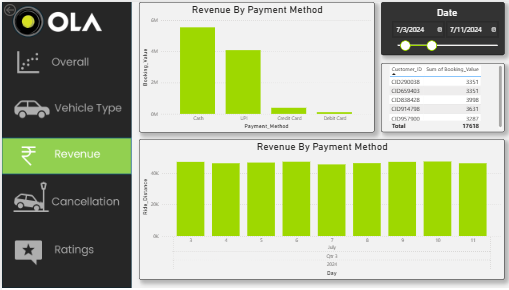

The dashboard page shown, as its layout file describes it:
{"tool":"powerbi","page":{"name":"Revenue","canvas":[1280,720],"ordinal":2},"visuals":[{"type":"actionButton","box":[0,98.6,314.3,108.6],"z":0},{"type":"actionButton","box":[0,207.1,325.7,134.3],"z":1000},{"type":"actionButton","box":[0,431.4,325.7,125.7],"z":2000},{"type":"actionButton","box":[0,572.9,325.7,147.1],"z":3000},{"type":"columnChart","title":"Revenue By Payment Method","fields":{"Y":["Sum(July.Booking_Value)"],"Category":["July.Payment_Method"]},"box":[342.4,0,589.4,325.8],"z":4000},{"type":"columnChart","title":"Revenue By Payment Method","fields":{"Y":["Sum(July.Ride_Distance)"],"Category":["July.Date.Variation.Date Hierarchy.Year","July.Date.Variation.Date Hierarchy.Quarter","July.Date.Variation.Date Hierarchy.Month","July.Date.Variation.Date Hierarchy.Day"]},"box":[342.4,342.4,913.6,351.5],"z":5000},{"type":"slicer","title":"Date","fields":{"Values":["July.Date"]},"box":[947,0,309.1,133.3],"z":6000},{"type":"tableEx","fields":{"Values":["July.Customer_ID","Sum(July.Booking_Value)"]},"box":[947,153,309.1,172.7],"z":7000},{"type":"actionButton","box":[0,0,100,40],"z":8000}]}

Visuals, with their boxes in screenshot pixels (x1, y1, x2, y2), scaled from the page's 1280x720 canvas onto the 509x290 screenshot:
actionButton: bbox=[0, 40, 125, 83]
actionButton: bbox=[0, 83, 130, 138]
actionButton: bbox=[0, 174, 130, 224]
actionButton: bbox=[0, 231, 130, 289]
"Revenue By Payment Method" columnChart: bbox=[136, 0, 371, 131]
"Revenue By Payment Method" columnChart: bbox=[136, 138, 499, 279]
"Date" slicer: bbox=[377, 0, 499, 54]
tableEx - July.Customer_ID x Sum(July.Booking_Value): bbox=[377, 62, 499, 131]
actionButton: bbox=[0, 0, 40, 16]
